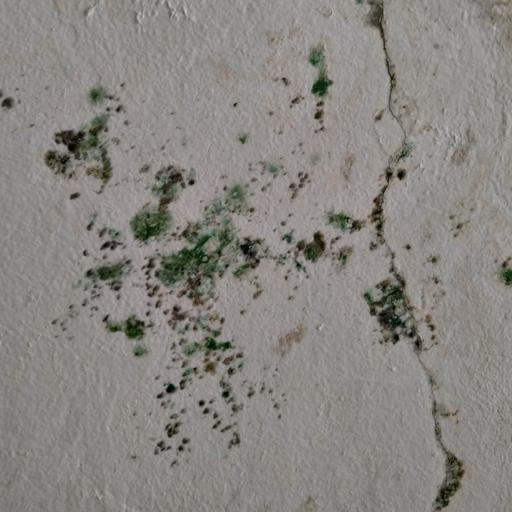algae: (40, 81, 471, 451)
